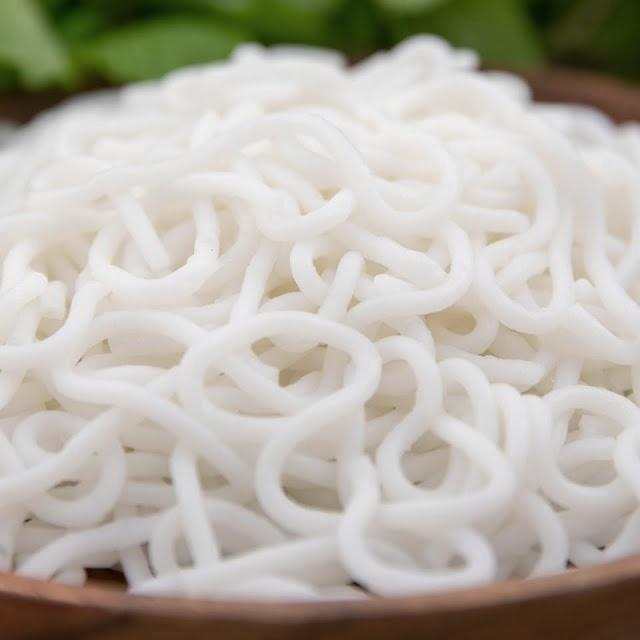noodles: (0, 69, 640, 580)
